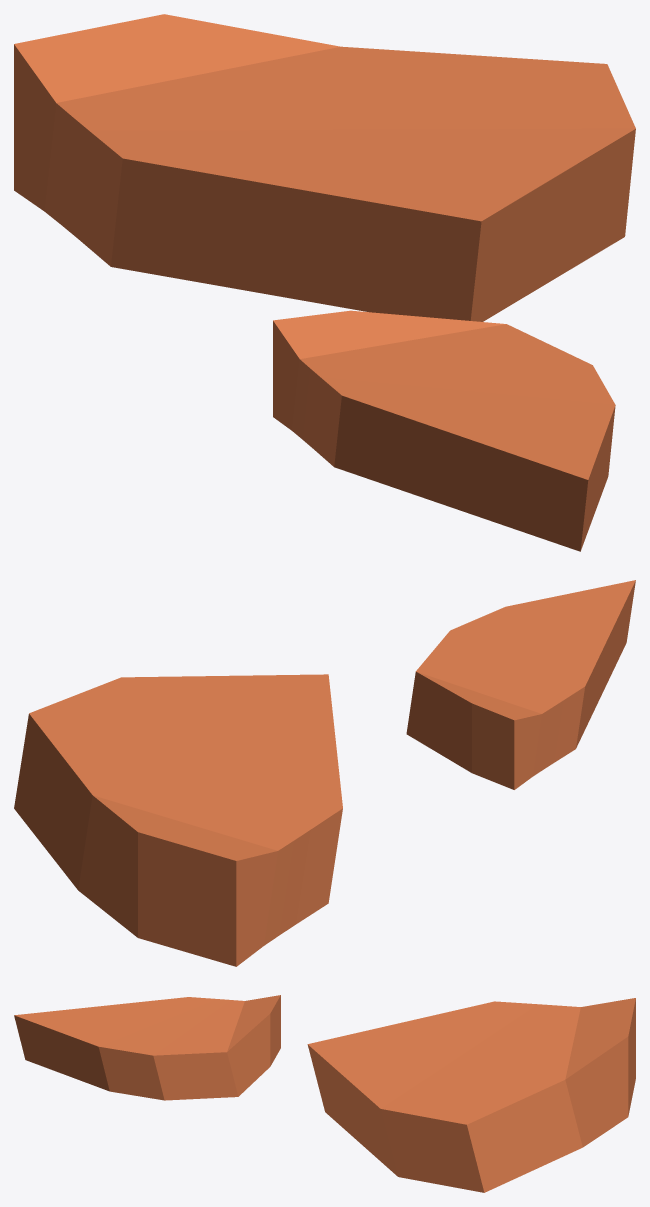
The model's file is koifishRightFin.glb.
3 views of the same model, one above another, from view 1: azimuth 30°, elevation 25°; view 2: azimuth 150°, elevation 25°; view 3: azimuth 270°, elevation 25° (orthographic). The views are drawn at different scales.
Parts seen in each view (by area): view 1: Fin2.003; view 2: Fin2.003; view 3: Fin2.003.
Boxes of the visible parts, box(x1,y1,x2,y2) form: Fin2.003: box(14, 14, 635, 551); Fin2.003: box(14, 580, 635, 966); Fin2.003: box(14, 995, 635, 1192).
Size of the model in its own units: 4.58 by 1.23 by 8.56.
